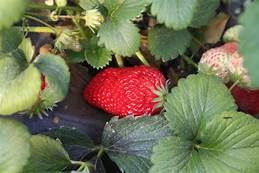Fresa: (76, 62, 171, 120)
